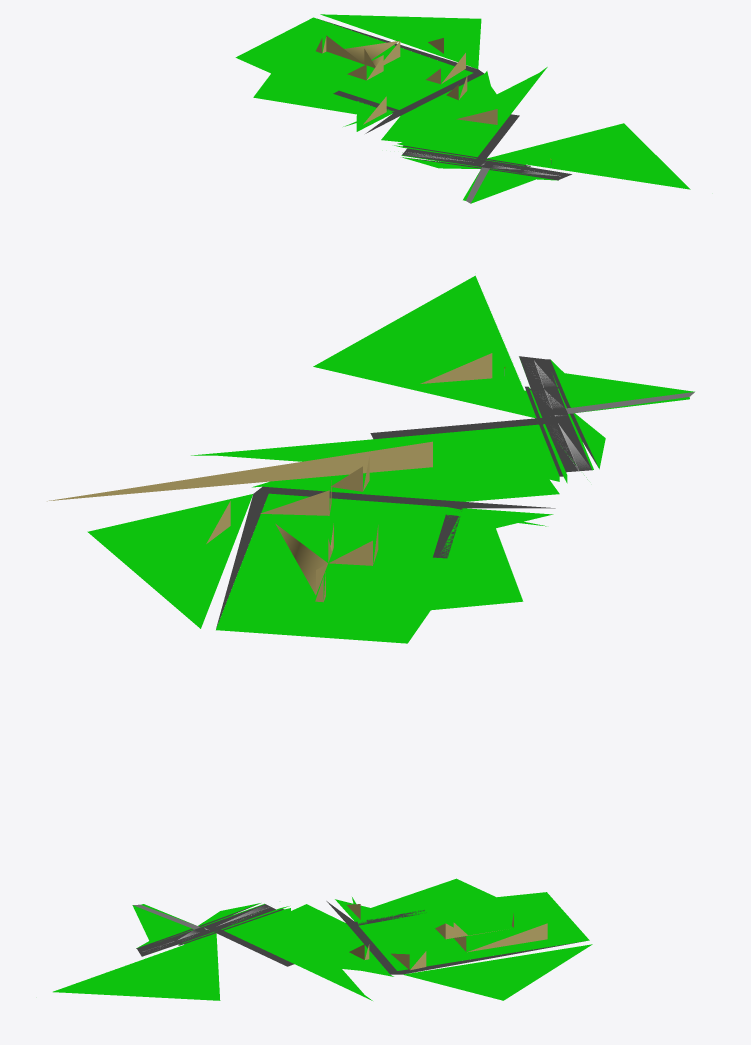
The picture shows the model from 3 angles, top to bottom: view 1: azimuth 30°, elevation 25°; view 2: azimuth 150°, elevation 25°; view 3: azimuth 270°, elevation 25°; orthographic projection. The views are drawn at different scales.
Size of the model in its own units: 200 by 7.5 by 306.
